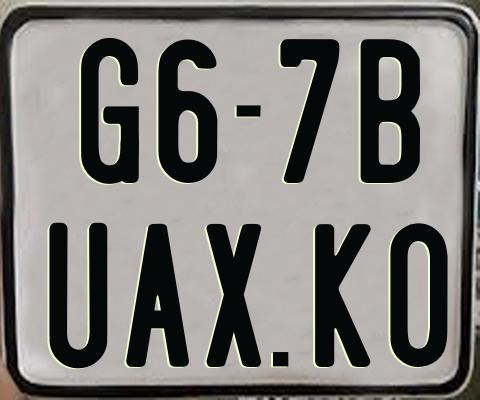0: (390, 220, 452, 369)
6: (157, 38, 218, 184)
7: (277, 36, 339, 180)
A: (124, 224, 191, 369)
B: (358, 38, 420, 188)
G: (79, 35, 141, 186)
K: (312, 222, 373, 370)
U: (48, 221, 107, 372)
X: (204, 222, 263, 366)
